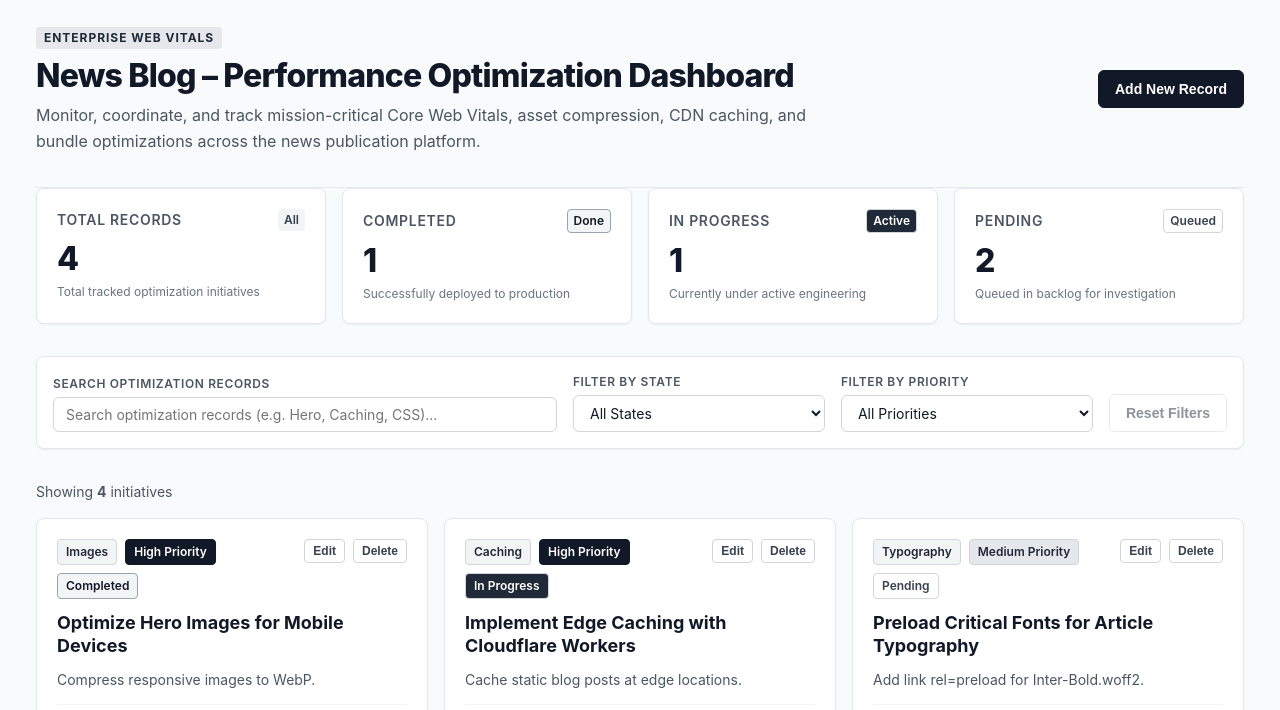
it: C. Search and Filtering Requirements › displays "No data found" when search returns no matching records
Type "NonExistentOptimizationTopic123" into the field labelled "Search optimization records" at (305, 414), box [53,397,557,432]
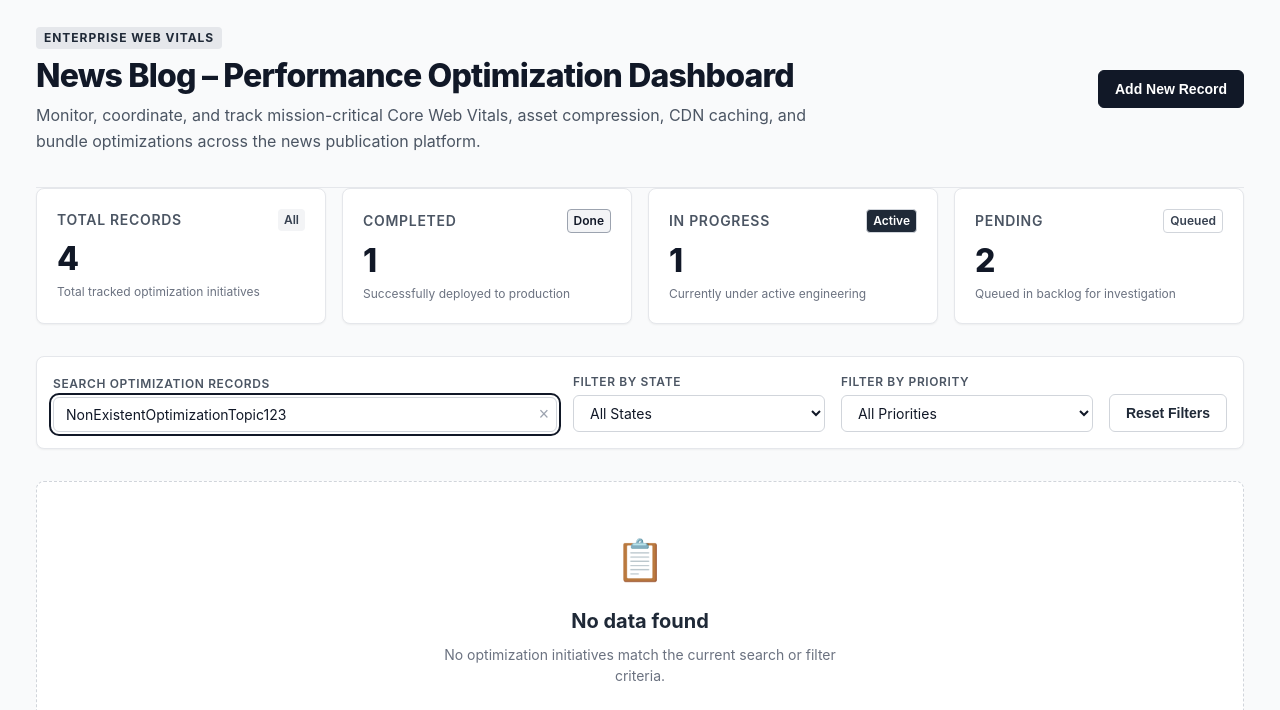
Now the heading "No data found" is shown, box [571,606,709,636]
Now the heading "Optimize Hero Images for Mobile Devices" is gone
